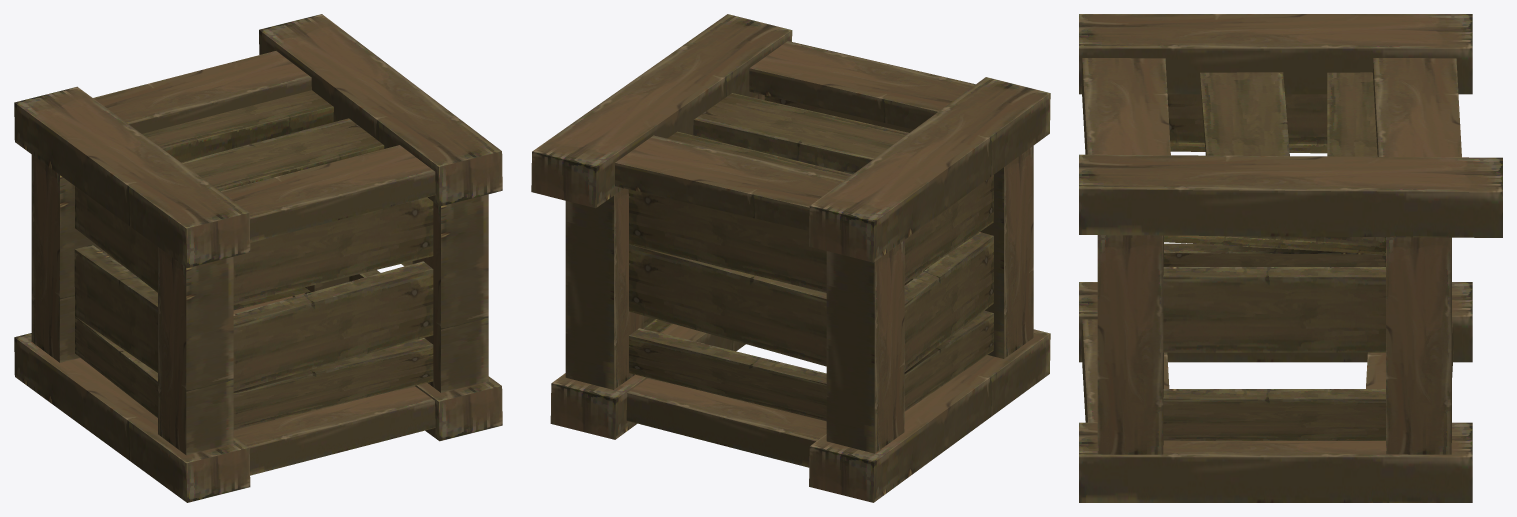
Rendered from bfcs_muxiang_01.FBX.
The picture shows the model from 3 angles, left to right: view 1: azimuth 30°, elevation 25°; view 2: azimuth 150°, elevation 25°; view 3: azimuth 270°, elevation 25°; orthographic projection. The views are drawn at different scales.
Visible parts, largest first — view 1: bfcs_muxiang_01; view 2: bfcs_muxiang_01; view 3: bfcs_muxiang_01.
Part boxes in pixels (x1,y1,x2,y2): bfcs_muxiang_01: (14, 14, 502, 502); bfcs_muxiang_01: (531, 14, 1050, 502); bfcs_muxiang_01: (1079, 14, 1502, 502).
Size of the model in its own units: 30.64 by 25.02 by 30.63.
